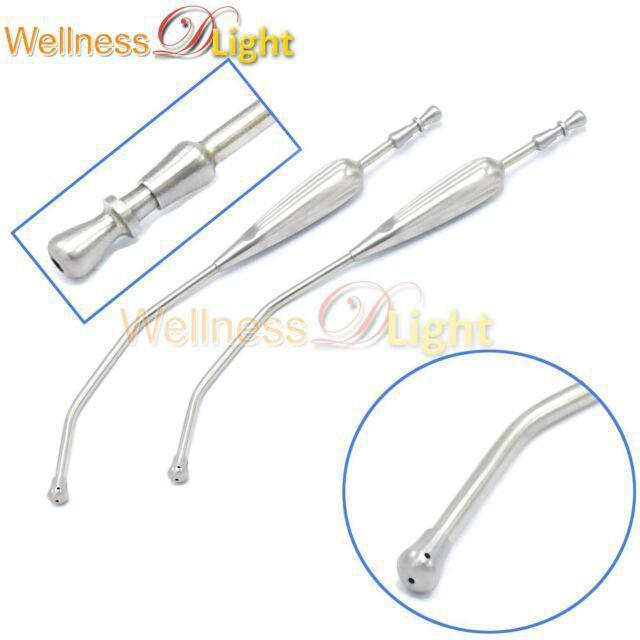Yankauer: (164, 105, 592, 487), (46, 100, 447, 507), (394, 379, 600, 597), (46, 94, 278, 285)
